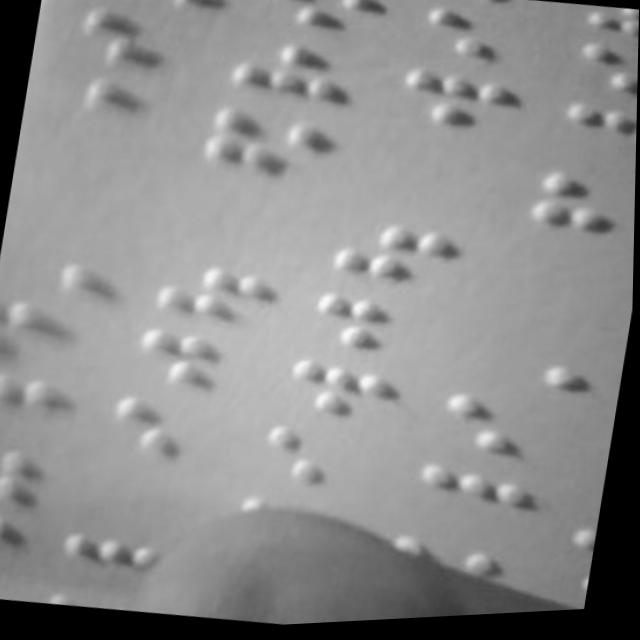braiile: (62, 0, 223, 98), (19, 66, 181, 160), (384, 60, 533, 157), (217, 31, 364, 127), (100, 388, 253, 479), (122, 319, 274, 410), (186, 105, 343, 193), (409, 455, 550, 550), (305, 283, 456, 370), (275, 351, 414, 445), (431, 386, 574, 476), (150, 252, 295, 336), (328, 219, 467, 298), (522, 169, 637, 259), (409, 0, 541, 76), (548, 101, 638, 191), (0, 290, 92, 373), (246, 0, 386, 49), (565, 40, 639, 122), (0, 364, 72, 445), (91, 0, 230, 37), (0, 435, 39, 502), (0, 507, 30, 563), (0, 556, 29, 603)
